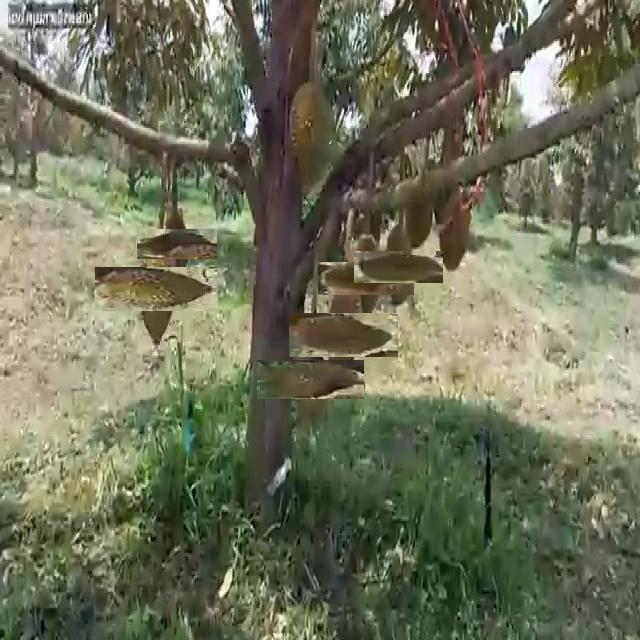durian: (115, 247, 199, 331), (306, 296, 382, 374), (273, 343, 347, 416), (288, 77, 335, 188), (334, 246, 399, 311), (368, 236, 429, 297), (149, 217, 205, 272), (403, 168, 436, 255)
